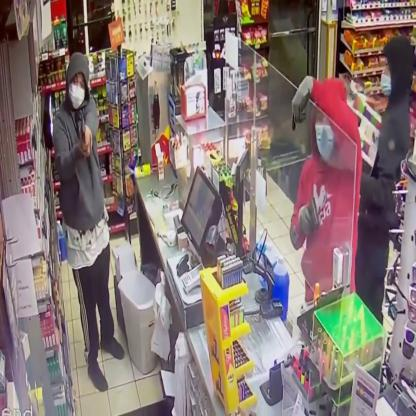Pistol: (304, 187, 326, 239), (78, 106, 90, 160)
